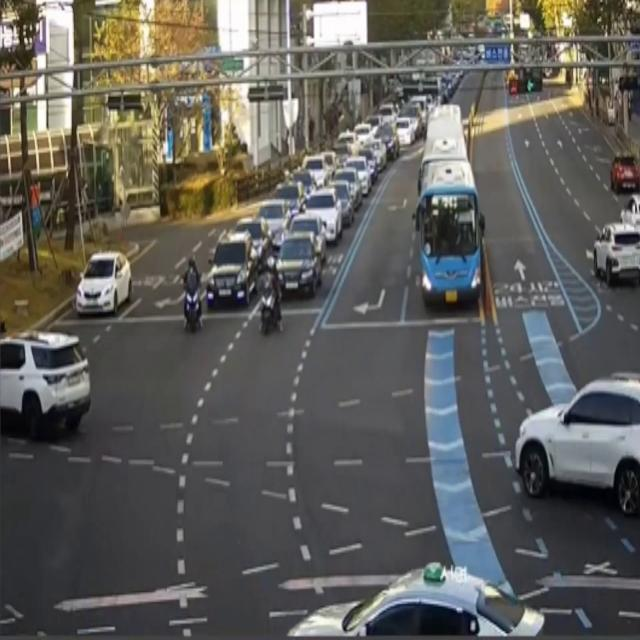bus: (260, 240, 285, 354), (181, 250, 206, 346)
car: (412, 147, 492, 310), (425, 96, 471, 163)
motorcycle: (285, 547, 542, 640), (494, 369, 636, 525), (0, 321, 103, 443), (587, 212, 639, 303), (210, 230, 261, 312), (72, 254, 134, 318), (278, 230, 322, 302), (297, 193, 349, 243), (292, 214, 333, 268), (612, 141, 640, 197), (330, 175, 354, 235), (254, 193, 287, 236), (297, 156, 330, 191), (232, 211, 273, 236), (337, 168, 360, 212), (272, 181, 308, 207), (292, 165, 321, 191)
